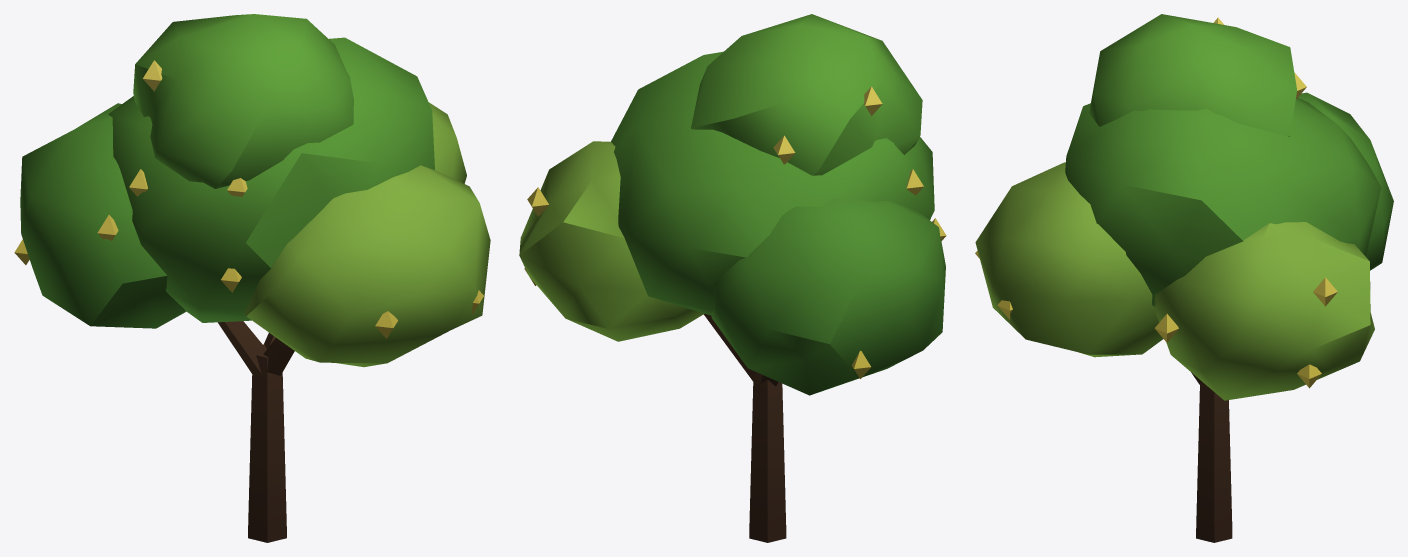
File: PearTree.fbx
3 views of the same model, side by side, from view 1: azimuth 30°, elevation 25°; view 2: azimuth 150°, elevation 25°; view 3: azimuth 270°, elevation 25° (orthographic). The views are drawn at different scales.
Visible parts, largest first — view 1: PearTree_LOD0; view 2: PearTree_LOD0; view 3: PearTree_LOD0.
Boxes of the visible parts, x1,y1,x2,y2 form: PearTree_LOD0: [14, 14, 490, 542]; PearTree_LOD0: [519, 14, 946, 542]; PearTree_LOD0: [975, 14, 1393, 542].
Size of what is drawn, in the model's own units: 5.04 by 6.3 by 4.81.
1 material, 1 textured.
